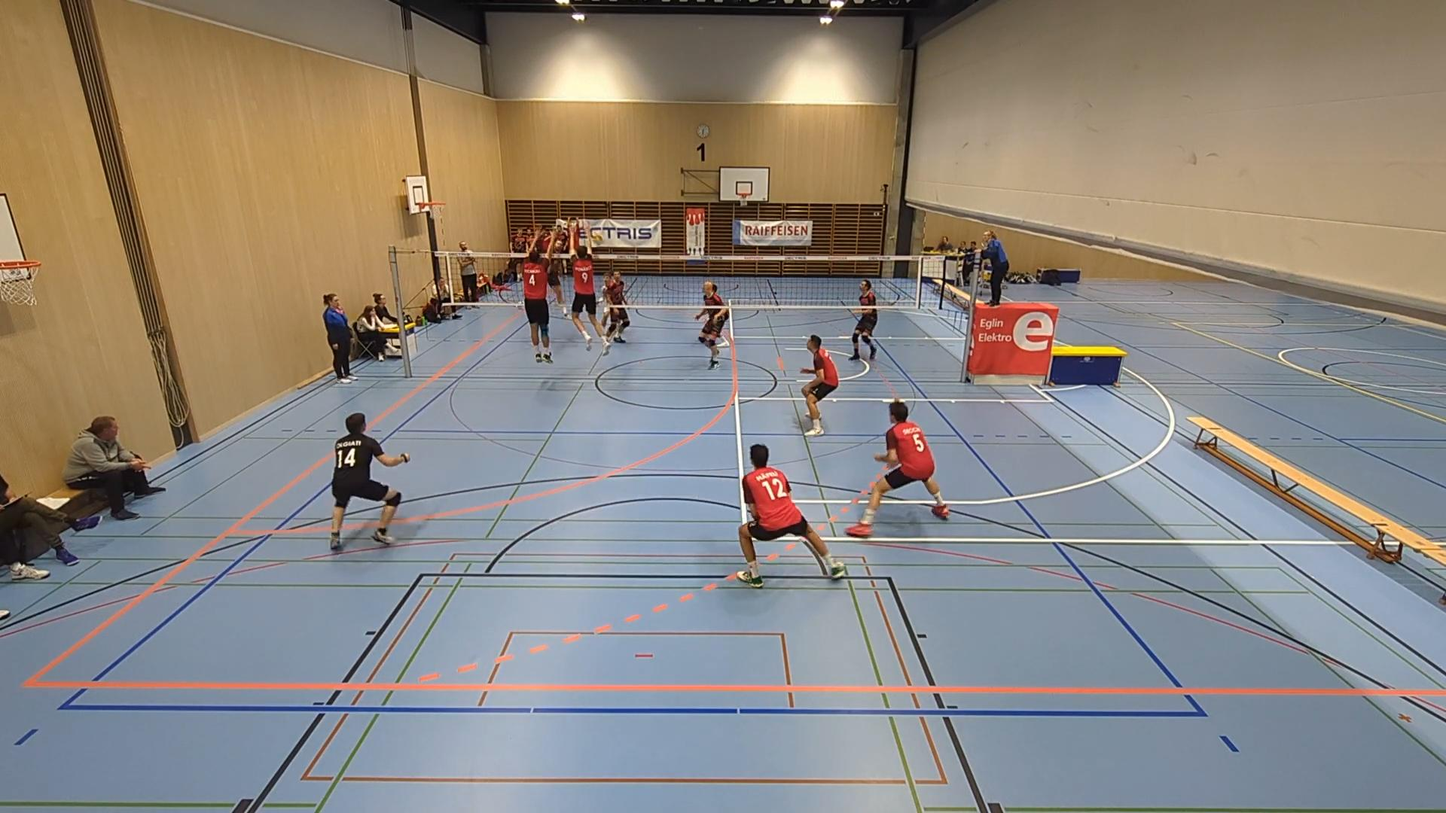attacco: (538, 222, 574, 318)
muro: (521, 220, 568, 365), (564, 226, 606, 351)
